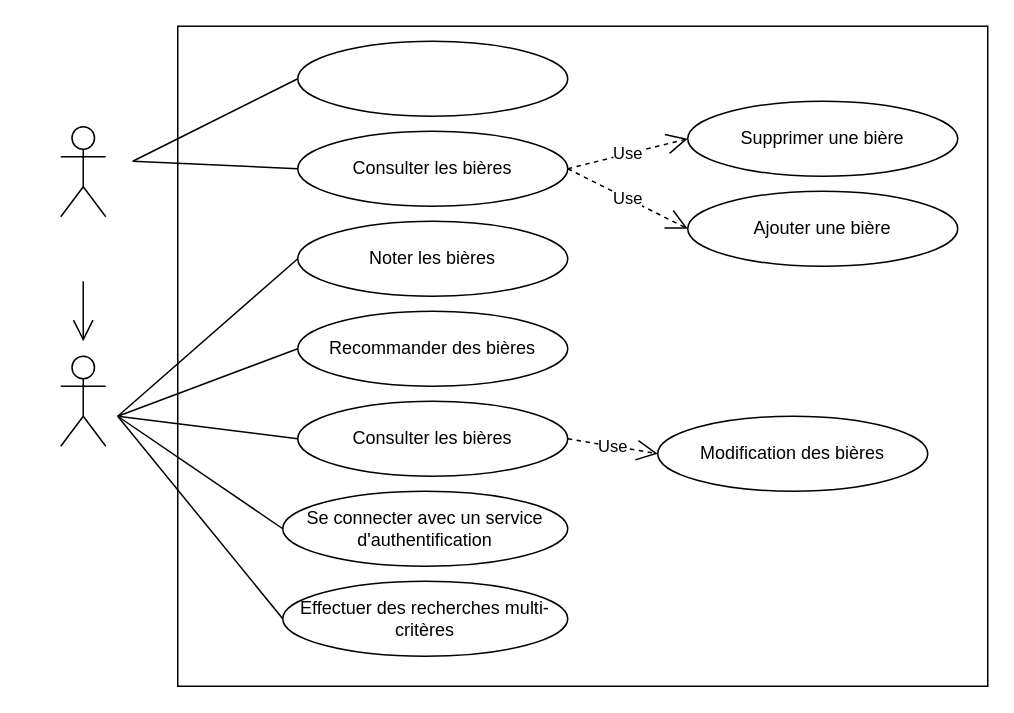
This 1014x713 diagram has some shape labels left out. Each missing label, with the centre of its shape:
Générer des rapports statistiques: (432,78)
Utilisateur Administrateur: (82,171)
Utilsateur Normal: (82,400)
